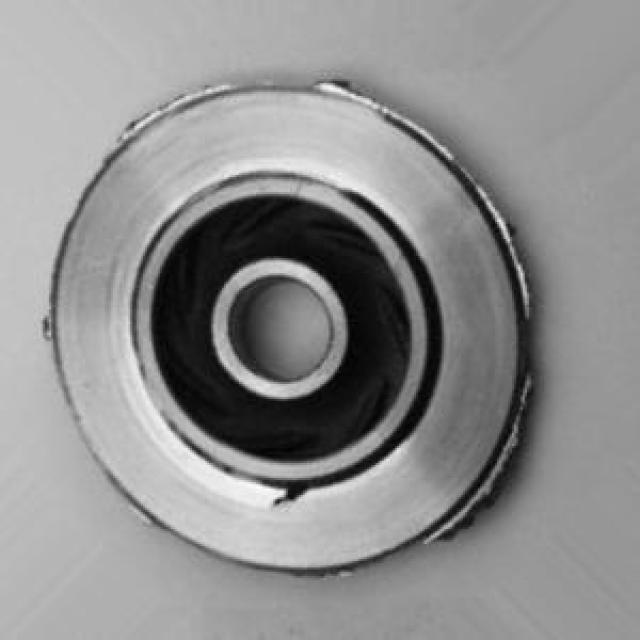Defect: (321, 67, 379, 124)
